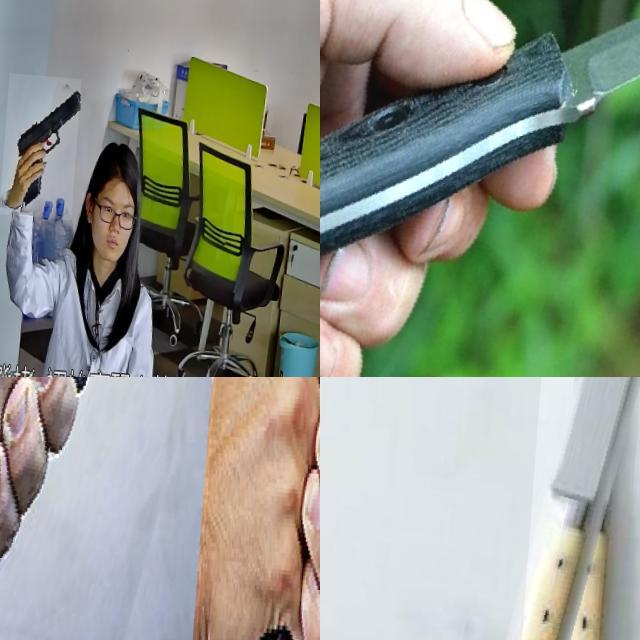-: (320, 0, 640, 377), (526, 377, 640, 640)
gun-knife-thesis - v11 Yolov5 augmented: (0, 377, 236, 640), (210, 377, 320, 640), (6, 72, 86, 216)
